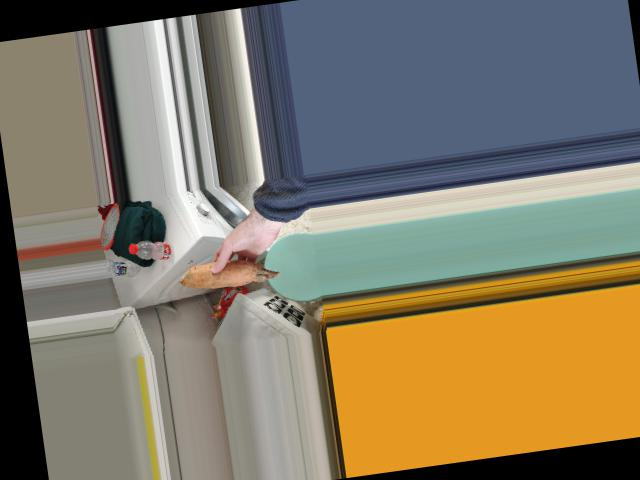sweet_potato: (188, 246, 278, 291)
